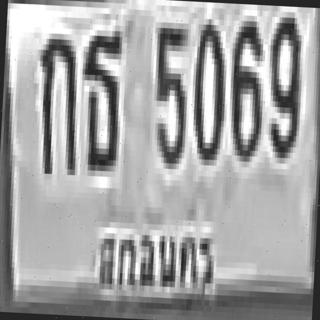A01: (33, 27, 81, 175)
A24: (78, 27, 123, 169)
N00: (189, 19, 226, 160)
N05: (148, 16, 189, 164)
N06: (227, 15, 265, 157)
N09: (264, 11, 302, 153)
P56: (91, 222, 223, 301)
